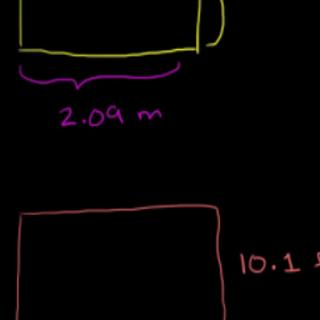.: (81, 116, 87, 126), (270, 262, 277, 270)
0: (248, 250, 267, 276), (86, 103, 103, 129)
1: (278, 243, 304, 278), (239, 251, 248, 277)
2: (54, 104, 77, 128)
9: (105, 101, 125, 128)
